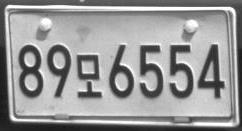4: (196, 43, 225, 99)
5: (168, 44, 194, 99), (138, 44, 164, 98)
6: (108, 44, 135, 98)
8: (17, 43, 44, 98)
9: (46, 43, 72, 97)
모: (75, 53, 102, 98)
